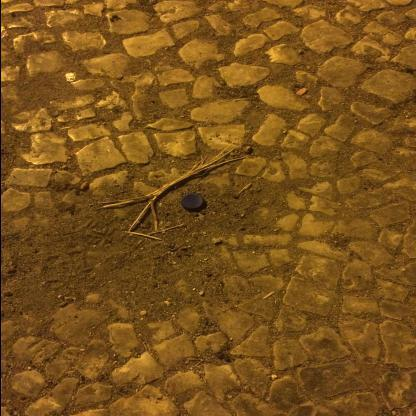plastik: (182, 194, 203, 210)
